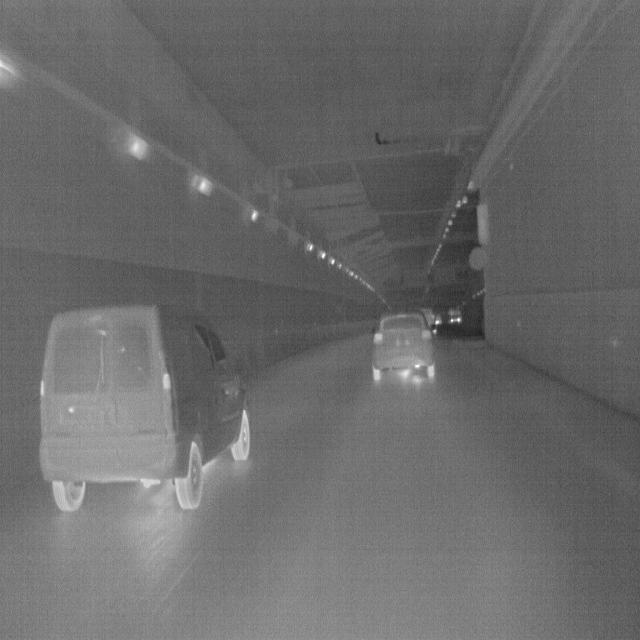Vehicle: (32, 298, 253, 517), (369, 309, 437, 385)
